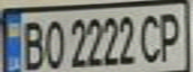2: (84, 12, 106, 69), (66, 14, 87, 70), (118, 11, 139, 66), (103, 11, 121, 68)
B: (18, 16, 48, 72)
C: (136, 10, 163, 64)
O: (42, 16, 66, 71)
P: (154, 7, 187, 63)
